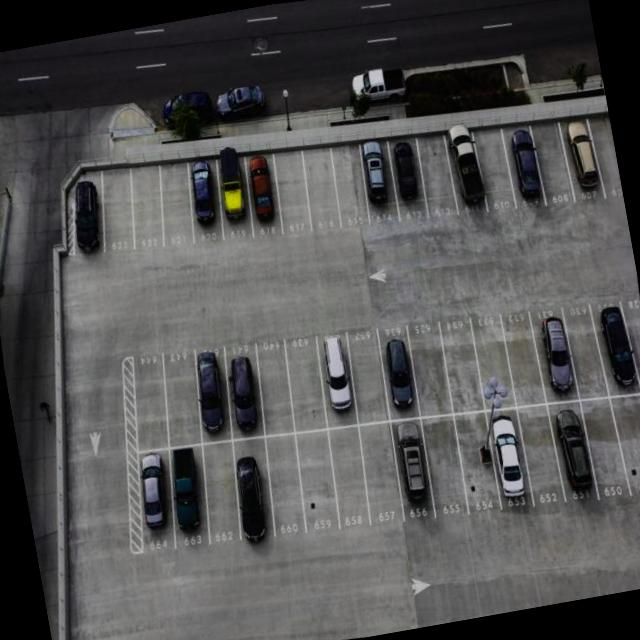car: (124, 446, 186, 555), (157, 442, 218, 550), (544, 399, 604, 508), (223, 436, 280, 547), (481, 406, 538, 514), (449, 411, 505, 518), (384, 419, 438, 524), (585, 295, 640, 396), (529, 307, 584, 403), (56, 164, 110, 260), (187, 346, 239, 442), (218, 342, 268, 435), (313, 334, 363, 426), (556, 116, 607, 206), (206, 153, 256, 244), (442, 129, 492, 220), (238, 150, 288, 240), (498, 124, 548, 214), (372, 328, 422, 418), (180, 160, 228, 248), (384, 139, 432, 223), (354, 137, 402, 220)
free: (574, 395, 634, 506), (510, 403, 568, 513), (193, 437, 250, 546), (354, 422, 410, 529), (418, 414, 474, 520), (260, 432, 314, 538), (325, 423, 378, 529), (290, 432, 344, 536), (122, 357, 177, 455), (557, 302, 610, 400), (154, 348, 206, 446), (496, 311, 548, 408), (280, 338, 332, 434), (434, 317, 486, 413), (468, 314, 519, 410), (92, 165, 144, 258), (406, 320, 457, 414), (122, 162, 174, 252), (296, 146, 348, 236), (152, 162, 203, 252), (250, 340, 298, 435), (342, 332, 391, 424), (266, 150, 316, 240), (325, 141, 375, 230), (528, 123, 577, 212), (469, 128, 518, 216), (413, 132, 462, 219), (608, 389, 640, 501), (586, 116, 624, 202), (617, 293, 640, 394)
